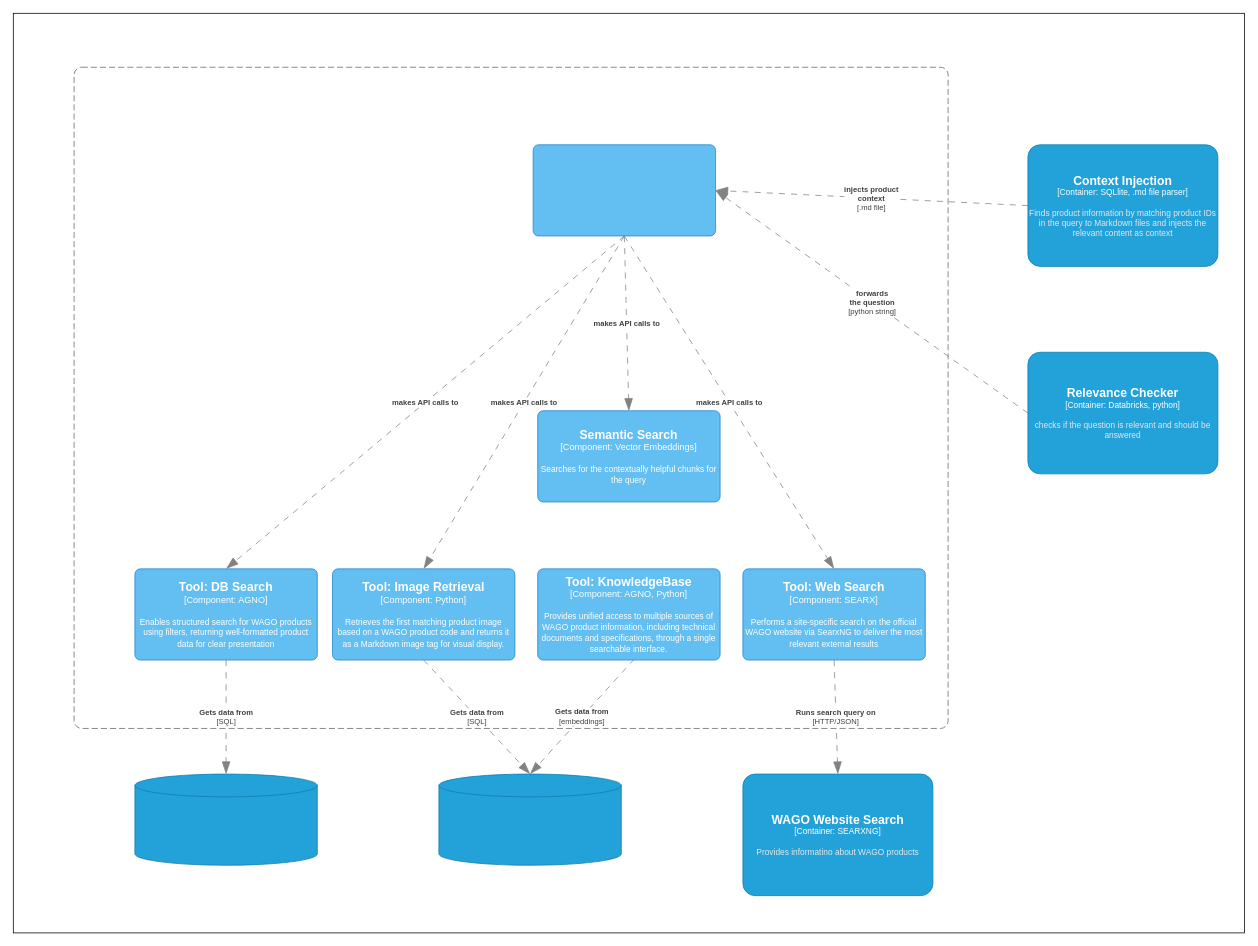
The diagram is 1258 pixels wide and 946 high, and some of its shapes have lost their labels. The shapes that lost their labels are listed below. From the top down, each one's box as (x1, y1, x2, y2) in pixels, then its label:
(532, 144, 716, 236): Agent [Component: python, AGNO AGI] Answers the query using pre-defined tools
(73, 66, 948, 728): Answering Engine [Container]
(134, 773, 317, 865): Structures Data [Container: SQLite] Contains SQL tables
(438, 773, 621, 865): Unstructured Data [Container: Knowledge Base] Contains PDFs, TXTs(FAQs), JSONs
